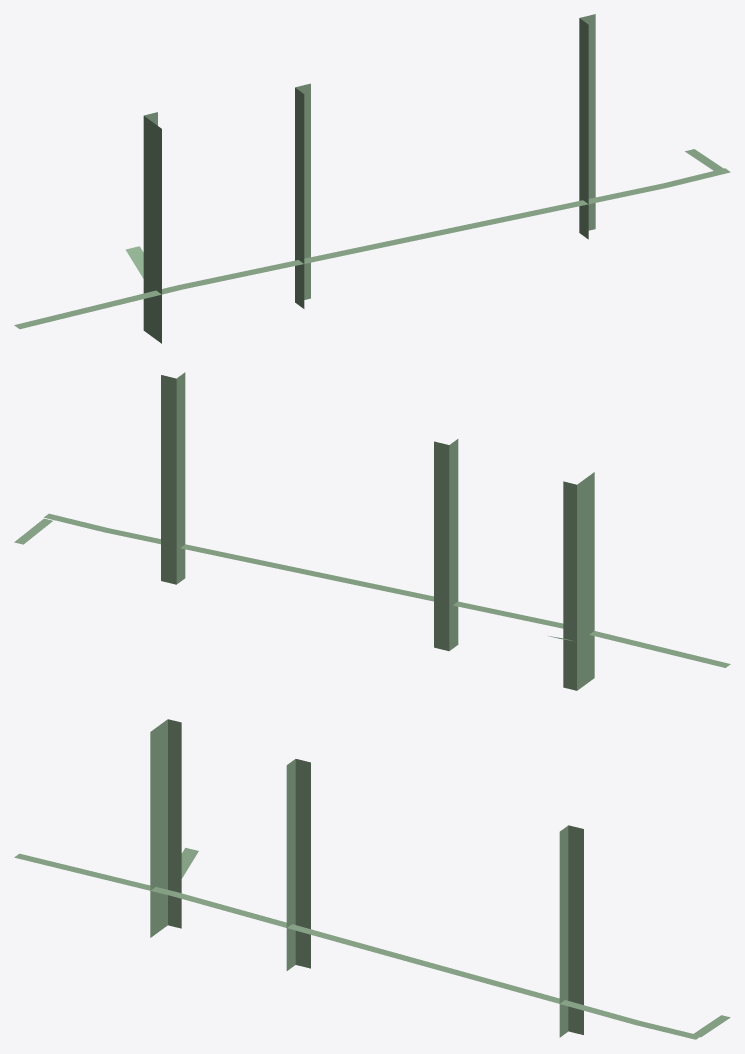
File: HYDROLIC_STOR_TK.glb
The picture shows the model from 3 angles, top to bottom: view 1: azimuth 30°, elevation 25°; view 2: azimuth 150°, elevation 25°; view 3: azimuth 330°, elevation 25°; orthographic projection. The views are drawn at different scales.
Parts seen in each view (by area): view 1: ST_TransxFR41PxWeb_001001-IA_200x90x9x14_NVA_1993, FP_L7SectionxEPRP_006001-T_125x10_NVA_1993, ST_L7SectionxEPRPxWeb_015001-IA_101.6x101.6x9.52x9.52_NVA_19, ST_L7SectionxEPRPxWeb_008001-IA_101.6x101.6x9.52x9.52_NVA_19, FP_L7SectionxEPRP_006002-T_125x10_NVA_1993, ST_L7SectionxEPRPxFLG_010001-IA_101.6x101.6x9.52x9.52_NVA_19, ST_L7SectionxEPRPxFLG_012001-IA_101.6x101.6x9.52x9.52_NVA_19; view 2: ST_TransxFR41PxWeb_001001-IA_200x90x9x14_NVA_1993, ST_L7SectionxEPRPxFLG_012001-IA_101.6x101.6x9.52x9.52_NVA_19, ST_L7SectionxEPRPxFLG_010001-IA_101.6x101.6x9.52x9.52_NVA_19, ST_TransxFR41PxFLG_001001-IA_200x90x9x14_NVA_1993, ST_L7SectionxEPRPxWeb_008001-IA_101.6x101.6x9.52x9.52_NVA_19, ST_L7SectionxEPRPxWeb_015001-IA_101.6x101.6x9.52x9.52_NVA_19, FP_L7SectionxEPRP_006001-T_125x10_NVA_1993, FP_L7SectionxEPRP_006002-T_125x10_NVA_1993; view 3: ST_TransxFR41PxWeb_001001-IA_200x90x9x14_NVA_1993, ST_L7SectionxEPRPxFLG_010001-IA_101.6x101.6x9.52x9.52_NVA_19, ST_L7SectionxEPRPxFLG_012001-IA_101.6x101.6x9.52x9.52_NVA_19, ST_TransxFR41PxFLG_001001-IA_200x90x9x14_NVA_1993, FP_L7SectionxEPRP_006001-T_125x10_NVA_1993, ST_L7SectionxEPRPxWeb_015001-IA_101.6x101.6x9.52x9.52_NVA_19, ST_L7SectionxEPRPxWeb_008001-IA_101.6x101.6x9.52x9.52_NVA_19, FP_L7SectionxEPRP_006002-T_125x10_NVA_1993.
Part boxes in pixels (<box>): ST_TransxFR41PxWeb_001001-IA_200x90x9x14_NVA_1993: <box>143,116,161,343</box>; FP_L7SectionxEPRP_006001-T_125x10_NVA_1993: <box>362,168,730,250</box>; ST_L7SectionxEPRPxWeb_015001-IA_101.6x101.6x9.52x9.52_NVA_19: <box>295,87,304,308</box>; ST_L7SectionxEPRPxWeb_008001-IA_101.6x101.6x9.52x9.52_NVA_19: <box>579,18,588,239</box>; FP_L7SectionxEPRP_006002-T_125x10_NVA_1993: <box>14,246,366,329</box>; ST_L7SectionxEPRPxFLG_010001-IA_101.6x101.6x9.52x9.52_NVA_19: <box>580,14,595,230</box>; ST_L7SectionxEPRPxFLG_012001-IA_101.6x101.6x9.52x9.52_NVA_19: <box>295,83,310,299</box>; ST_TransxFR41PxWeb_001001-IA_200x90x9x14_NVA_1993: <box>577,472,594,690</box>; ST_L7SectionxEPRPxFLG_012001-IA_101.6x101.6x9.52x9.52_NVA_19: <box>434,441,449,650</box>; ST_L7SectionxEPRPxFLG_010001-IA_101.6x101.6x9.52x9.52_NVA_19: <box>161,375,176,584</box>; ST_TransxFR41PxFLG_001001-IA_200x90x9x14_NVA_1993: <box>563,481,576,690</box>; ST_L7SectionxEPRPxWeb_008001-IA_101.6x101.6x9.52x9.52_NVA_19: <box>176,372,185,584</box>; ST_L7SectionxEPRPxWeb_015001-IA_101.6x101.6x9.52x9.52_NVA_19: <box>449,439,458,650</box>; FP_L7SectionxEPRP_006001-T_125x10_NVA_1993: <box>44,513,397,592</box>; FP_L7SectionxEPRP_006002-T_125x10_NVA_1993: <box>392,589,730,667</box>; ST_TransxFR41PxWeb_001001-IA_200x90x9x14_NVA_1993: <box>150,719,167,937</box>; ST_L7SectionxEPRPxFLG_010001-IA_101.6x101.6x9.52x9.52_NVA_19: <box>568,825,583,1034</box>; ST_L7SectionxEPRPxFLG_012001-IA_101.6x101.6x9.52x9.52_NVA_19: <box>295,759,310,968</box>; ST_TransxFR41PxFLG_001001-IA_200x90x9x14_NVA_1993: <box>168,719,181,928</box>; FP_L7SectionxEPRP_006001-T_125x10_NVA_1993: <box>348,941,700,1039</box>; ST_L7SectionxEPRPxWeb_015001-IA_101.6x101.6x9.52x9.52_NVA_19: <box>286,759,295,970</box>; ST_L7SectionxEPRPxWeb_008001-IA_101.6x101.6x9.52x9.52_NVA_19: <box>559,826,568,1037</box>; FP_L7SectionxEPRP_006002-T_125x10_NVA_1993: <box>14,853,352,944</box>.
Size of the model in its own units: 4.5 by 1.3 by 0.4.
